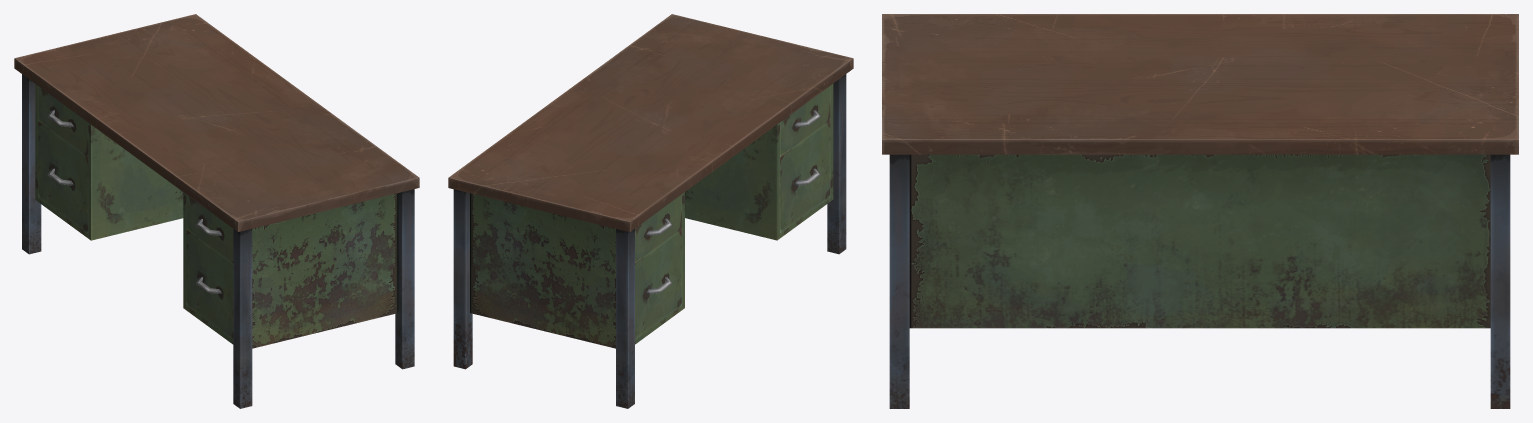
The model's file is desk01_A.FBX.
The picture shows the model from 3 angles, left to right: view 1: azimuth 30°, elevation 25°; view 2: azimuth 150°, elevation 25°; view 3: azimuth 270°, elevation 25°; orthographic projection. The views are drawn at different scales.
Parts seen in each view (by area): view 1: desk01_A, desk01_A_drawer01, desk01_A_drawer03, desk01_A_drawer02, desk01_A_drawer04; view 2: desk01_A, desk01_A_drawer03, desk01_A_drawer01, desk01_A_drawer04, desk01_A_drawer02; view 3: desk01_A.
Part boxes in pixels (x1=…): desk01_A: x1=14, y1=14, x2=419, y2=408; desk01_A_drawer01: x1=38, y1=121, x2=88, y2=232; desk01_A_drawer03: x1=186, y1=229, x2=233, y2=339; desk01_A_drawer02: x1=38, y1=86, x2=88, y2=156; desk01_A_drawer04: x1=186, y1=194, x2=233, y2=263; desk01_A: x1=448, y1=14, x2=853, y2=408; desk01_A_drawer03: x1=780, y1=121, x2=830, y2=233; desk01_A_drawer01: x1=635, y1=229, x2=681, y2=339; desk01_A_drawer04: x1=780, y1=86, x2=830, y2=156; desk01_A_drawer02: x1=635, y1=194, x2=681, y2=263; desk01_A: x1=882, y1=14, x2=1518, y2=408.
Size of the model in its own units: 75 by 75 by 160.
